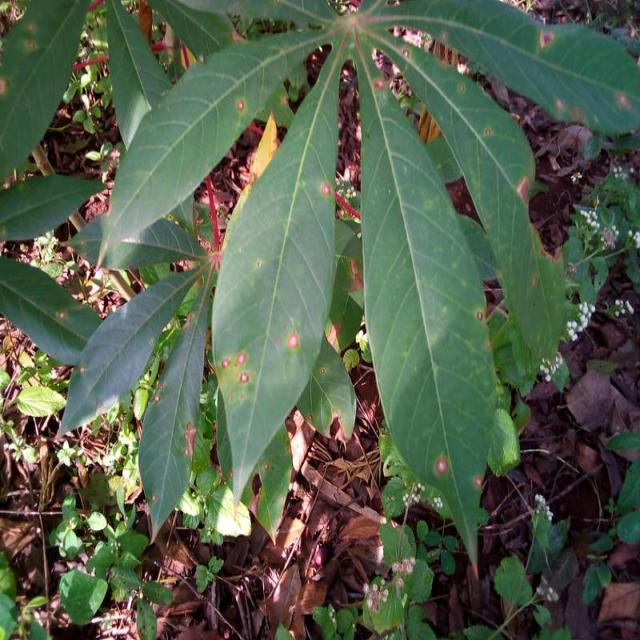cassava leaf: (2, 0, 637, 567), (354, 28, 499, 575), (68, 24, 335, 271), (210, 31, 344, 516)
